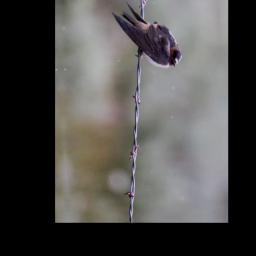Swallow: (111, 0, 184, 71)
